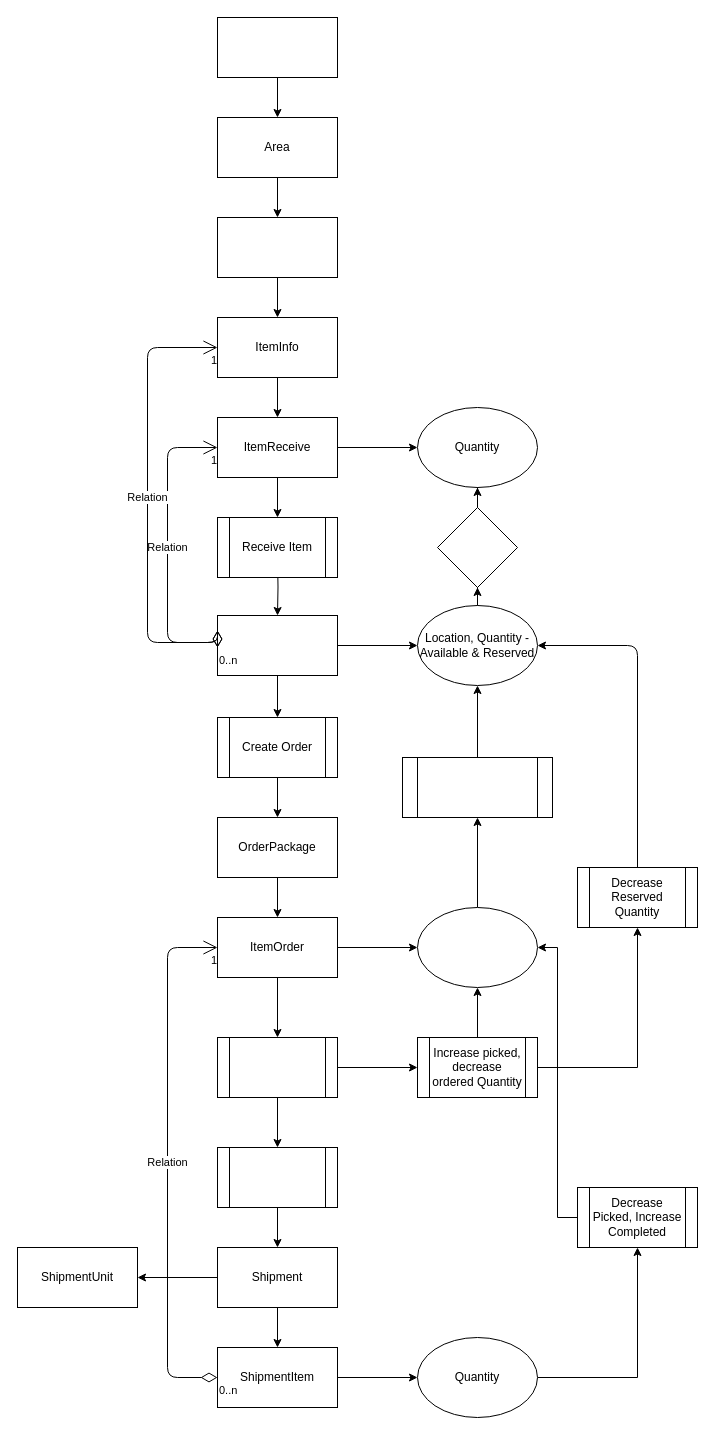
This 715x1435 diagram has some shape labels left out. The shapes that lost their labels are listed below. From the top down, each one's centre as x and y in pixels, then its label:
At (x=277, y=47): "Warehouse".
At (x=277, y=247): "Location".
At (x=477, y=547): "Decrease".
At (x=277, y=645): "ItemInventory".
At (x=477, y=787): "Increase start & ordered quantity: increase reserved, decrease available".
At (x=477, y=947): "Start, Ordered, Picked, Completed Quantity".
At (x=277, y=1067): "Pickup Order".
At (x=277, y=1177): "Ship Order".
